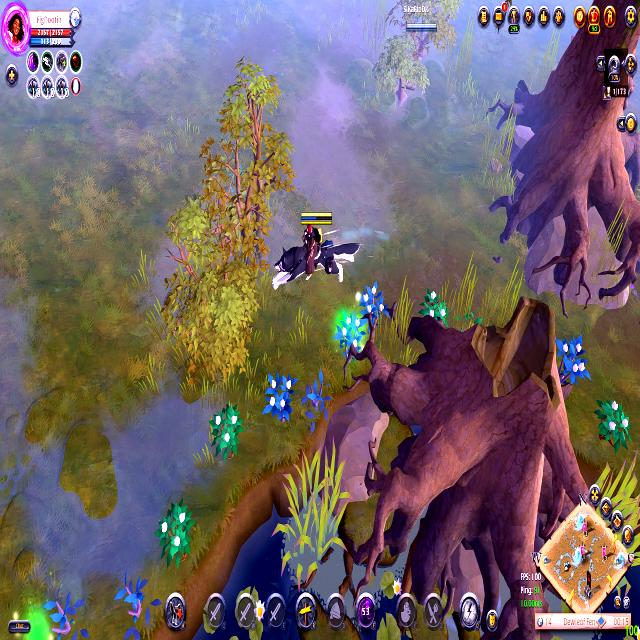hide: (153, 491, 197, 570), (352, 273, 394, 348), (206, 400, 248, 473), (330, 299, 370, 372), (592, 392, 635, 458), (255, 366, 300, 427), (553, 331, 594, 391), (418, 278, 452, 337)
red: (263, 202, 366, 298), (398, 0, 442, 37)
